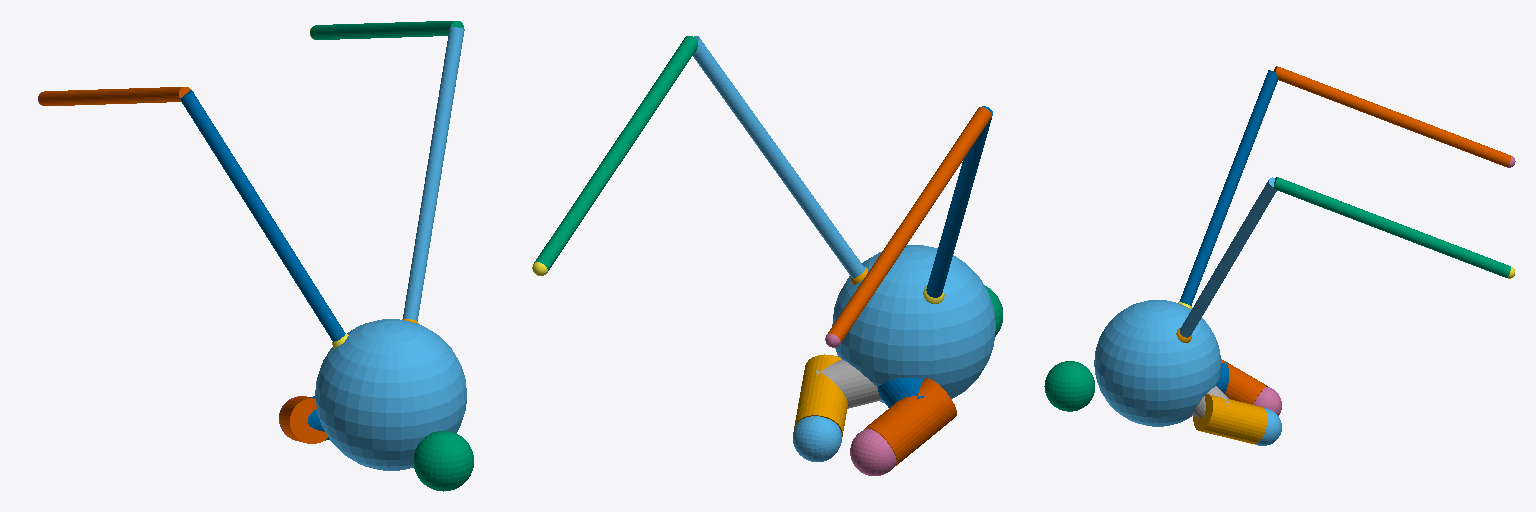
robot.urdf — ant:
<?xml version="1.0"?>
<!-- Link Definitions -->
<robot name="ant">
<link name="base_link">
</link>

<!-- ************************************************************** -->
<!-- Ant Head Definition -->
<link name="head">
    <visual>
      <geometry>
        <sphere radius="0.5"/>
      </geometry>
    </visual>
    <collision>
      <geometry>
        <sphere radius="0.5"/>
      </geometry>
    </collision>
</link>

<link name="neck">
    <visual>
      <geometry>
        <sphere radius="0.2"/>
      </geometry>
    </visual>
    <collision>
      <geometry>
        <sphere radius="0.2"/>
      </geometry>
    </collision>
</link>

 <joint name="neck_joint_1" type="revolute">
     <origin xyz="0.0 0.0 0.0" rpy="0.0 0.0 0.0"/>
     <parent link="base_link"/>
     <child link="neck"/>
     <axis xyz="1.0 0.0 0.0"/>
     <limit lower="-1.0" upper="1.0" effort="0.0" velocity="0.0"/>
 </joint>


  <!-- Joint Definitions Neck-->
  <joint name="neck_joint_2" type="revolute">
     <origin xyz="0.0 0.69 0.2" rpy="0.0 0.0 0.0"/>
     <parent link="neck"/>
     <child link="head"/>
     <axis xyz="0.0 1.0 0.0"/>
     <limit lower="-1.0" upper="1.0" effort="0.0" velocity="0.0"/>
 </joint>
<!-- ************************************************************** -->
 <!-- Ant Mandible Definition -->
<!-- Link Definitions Mandible-->
<link name="mandible_base_link">
    <visual>
      <geometry>
        <sphere radius="0.2"/>
      </geometry>
    </visual>
    <collision>
      <geometry>
        <sphere radius="0.2"/>
      </geometry>
    </collision>
</link>

<!-- Left Jaw -->
<link name="left_jaw_base">
    <visual>
    <origin xyz="0.0 0.0 0.0" rpy="0.0 0.0 0.0"/>
      <geometry>
        <cylinder radius="0.15" length="0.4"/>
      </geometry>

    </visual>
    <collision>
    <origin xyz="0.0 0.0 0.0" rpy="0.0 0.0 0.0"/>
      <geometry>
        <cylinder radius="0.15" length="0.4"/>
      </geometry>
    </collision>
  </link>

<link name="left_jaw">
    <visual>
    <origin xyz="0.0 0.0 0.0" rpy="0.0 0.0 0.0"/>
      <geometry>
        <cylinder radius="0.15" length="0.5"/>
      </geometry>

    </visual>
    <collision>
    <origin xyz="0.0 0.0 0.0" rpy="0.0 0.0 0.0"/>
      <geometry>
        <cylinder radius="0.15" length="0.5"/>
      </geometry>
    </collision>
  </link>

  <link name="left_jaw_tip">
    <visual>
    <origin xyz="0.0 0.0 0.0" rpy="0.0 0.0 0.0"/>
      <geometry>
        <sphere radius="0.15"/>
      </geometry>

    </visual>
            <collision>
    <origin xyz="0.0 0.0 0.0" rpy="0.0 0.0 0.0"/>
      <geometry>
        <sphere radius="0.15"/>
      </geometry>
    </collision>
  </link>

<!-- Right Jaw -->
  <link name="right_jaw_base">
    <visual>
    <origin xyz="0.0 0.0 0.0" rpy="0.0 0.0 0.0"/>
      <geometry>
        <cylinder radius="0.15" length="0.4"/>
      </geometry>

    </visual>
        <collision>
    <origin xyz="0.0 0.0 0.0" rpy="0.0 0.0 0.0"/>
      <geometry>
        <cylinder radius="0.15" length="0."/>
      </geometry>
    </collision>
  </link>

  <link name="right_jaw">
    <visual>
    <origin xyz="0.0 0.0 0.0" rpy="0.0 0.0 0.0"/>
      <geometry>
        <cylinder radius="0.15" length="0.5"/>
      </geometry>
    </visual>
    <collision>
    <origin xyz="0.0 0.0 0.0" rpy="0.0 0.0 0.0"/>
      <geometry>
        <cylinder radius="0.15" length="0.5"/>
      </geometry>
    </collision>
  </link>

  <link name="right_jaw_tip">
    <visual>
    <origin xyz="0.0 0.0 0.0" rpy="0.0 0.0 0.0"/>
      <geometry>
        <sphere radius="0.15"/>
      </geometry>

    </visual>
        <collision>
    <origin xyz="0.0 0.0 0.0" rpy="0.0 0.0 0.0"/>
      <geometry>
        <sphere radius="0.15"/>
      </geometry>
    </collision>
  </link>

  <!-- Joint Definitions Mandible -->
 <joint name="left_attachment" type="revolute">
     <origin xyz="0.2 0.2 0.0" rpy="-0.95 1.7 0.0"/>
     <parent link="mandible_base_link"/>
     <child link="left_jaw_base"/>
     <axis xyz="-1.0 0.0 0.0"/>
     <limit lower="-0.1" upper="0.5" effort="0.0" velocity="0.0"/>
 </joint>
  <joint name="right_attachment" type="revolute">
     <origin xyz="0.2 -0.2 0.0" rpy="0.95 1.7 0.0"/>
     <parent link="mandible_base_link"/>
     <child link="right_jaw_base"/>
     <axis xyz="1.0 0.0 0.0"/>
     <limit lower="-0.1" upper="0.5" effort="0.0" velocity="0.0"/>
 </joint>


    <joint name="fixed_left_1" type="fixed">
     <origin xyz="0.0 -0.1 0.2" rpy="1.3 0.0 0.0"/>

        <parent link="left_jaw_base"/>
        <child link="left_jaw"/>
    </joint>
        <joint name="fixed_left_2" type="fixed">
        <origin xyz="0.0 0.0 0.3" rpy="1.3 0.0 0.0"/>

        <parent link="left_jaw"/>
        <child link="left_jaw_tip"/>
    </joint>

        <joint name="fixed_right_1" type="fixed">
     <origin xyz="0.0 0.1 0.2" rpy=" -1.3 0.0 0.0"/>

        <parent link="right_jaw_base"/>
        <child link="right_jaw"/>
    </joint>
        <joint name="fixed_right_2" type="fixed">
        <origin xyz="0.0 0.0 0.3" rpy="-1.3 0.0 0.0"/>

        <parent link="right_jaw"/>
        <child link="right_jaw_tip"/>
    </joint>

<!-- Attach mandible to head -->
 <joint name="head_mandible" type="fixed">
     <origin xyz="0.0 0.2 -0.2" rpy="0.0 0.3 1.57"/>
     <axis xyz="0.0 0.0 0.0"/>
     <parent link="head"/>
     <child link="mandible_base_link"/>
 </joint>


<!-- *********************************************************** -->
<!-- Left Antenna -->

<!-- Link Definitions Left Antenna-->

<link name="left_antenna_base">
    <visual>
        <origin xyz="0.0 0.0 0.0" rpy="0.0 0.0 0.0"/>
        <geometry>
            <box size="0.0 0.0 0.0"/>
        </geometry>
    </visual>
</link>
<link name="l_pedicel">
    <visual>
    <origin xyz="0.0 0.0 0.0" rpy="0.0 0.0 0.0"/>
      <geometry>
        <sphere radius="0.07"/>
      </geometry>
      <material name="blue"/>
    </visual>
  </link>
  <link name="l_scape">
    <visual>
    <origin xyz="0.0 0.0 1" rpy="0.0 0.0 0.0"/>
      <geometry>
        <cylinder length="2" radius="0.05"/>
      </geometry>
    </visual>
    <collision>
    <origin xyz="0.0 0.0 1" rpy="0.0 0.0 0.0"/>
      <geometry>
        <cylinder length="2" radius="0.05"/>
      </geometry>
    </collision>
  </link>
  <link name="l_funiculus">
    <visual>
    <origin xyz="0.0 0.0 1" rpy="0.0 0.0 0"/>
      <geometry>
        <cylinder length="2" radius="0.05"/>
      </geometry>
    </visual>
    <collision>
    <origin xyz="0.0 0.0 1" rpy="0.0 0.0 0.0"/>
      <geometry>
        <cylinder length="2" radius="0.05"/>
      </geometry>
    </collision>
  </link>
  <link name="l_tip">

    <visual>
      <origin xyz="0.0 0.0 0.0" rpy="0.0 0.0 0.0"/>
      <geometry>
        <sphere radius="0.05"/>
      </geometry>
    </visual>
    <collision>
      <origin xyz="0.0 0.0 0.0" rpy="0.0 0.0 0.0"/>
      <geometry>
        <sphere radius="0.05"/>
      </geometry>
    </collision>
  </link>
 
<!-- Joint Definition Left Antenna -->
<joint name="l_PS1" type="revolute">
  <origin xyz="0.0 0.0 0.0" rpy="0.0 0.0 0.0"/>
  <parent link="left_antenna_base"/>
  <child link="l_pedicel"/>
  <axis xyz="-1.0 0.0 0.0"/>
  <limit lower="-0.5" upper="1.2" effort="0.0" velocity="0.0"/>
</joint>
<joint name="l_PS2" type="revolute">
    <origin xyz="0.0 0.0 0.0" rpy="0.0 0.0 0.0"/>
    <parent link="l_pedicel"/>
    <child link="l_scape"/>
    <axis xyz="0.0 1.0 0.0"/>
    <limit lower="-1.2" upper="1.2" effort="0.0" velocity="0.0"/>
</joint>

<joint name="l_SF1" type="revolute">
    <origin xyz="0.0 0.0 2" rpy="0.0 1.57 0"/>
    <parent link="l_scape"/>
    <child link="l_funiculus"/>
    <axis xyz="0.0 1.0 0.0"/>
    <limit lower="-1.57" upper="1.374" effort="0.0" velocity="0.0"/>
</joint> 

<joint name="l_end_joint" type="fixed">
  <origin xyz="0.0 0.0 2.0" rpy="0.0 0.0 0.0"/>
  <axis xyz="0.0 0.0 0.0"/>
  <parent link="l_funiculus"/>
  <child link="l_tip"/>  
</joint>

<!-- Join Left Antenna to Head -->
<joint name="l_antenna_base_jt" type="fixed">
  <origin xyz="-0.25 0.2 0.35" rpy="-0.4 0.4 1.57"/>
  <axis xyz="0.0 0.0 0.0"/>
  <parent link="head"/>
  <child link="left_antenna_base"/>  
</joint> 

<!-- ****************************************************************** -->

<!-- Right Antenna -->

<!-- Link Definitions Right Antenna-->

<link name="right_antenna_base">
    <visual>
        <origin xyz="0.0 0.0 0.0" rpy="0.0 0.0 0.0"/>
        <geometry>
            <box size="0.0 0.0 0.0"/>
        </geometry>
    </visual>
</link>
<link name="r_pedicel">
    <visual>
    <origin xyz="0.0 0.0 0.0" rpy="0.0 0.0 0.0"/>
      <geometry>
        <sphere radius="0.07"/>
      </geometry>
      <material name="blue"/>
    </visual>
  </link>
  <link name="r_scape">
    <visual>
    <origin xyz="0.0 0.0 1" rpy="0.0 0.0 0.0"/>
      <geometry>
        <cylinder length="2" radius="0.05"/>
      </geometry>
    </visual>
    <collision>
    <origin xyz="0.0 0.0 1" rpy="0.0 0.0 0.0"/>
      <geometry>
        <cylinder length="2" radius="0.05"/>
      </geometry>
    </collision>
  </link>
  <link name="r_funiculus">
    <visual>
    <origin xyz="0.0 0.0 1" rpy="0.0 0.0 0"/>
      <geometry>
        <cylinder length="2" radius="0.05"/>
      </geometry>
    </visual>
    <collision>
    <origin xyz="0.0 0.0 1" rpy="0.0 0.0 0.0"/>
      <geometry>
        <cylinder length="2" radius="0.05"/>
      </geometry>
    </collision>
  </link>
  <link name="r_tip">

    <visual>
      <origin xyz="0.0 0.0 0.0" rpy="0.0 0.0 0.0"/>
      <geometry>
        <sphere radius="0.05"/>
      </geometry>
    </visual>
    <collision>
      <origin xyz="0.0 0.0 0.0" rpy="0.0 0.0 0.0"/>
      <geometry>
        <sphere radius="0.05"/>
      </geometry>
    </collision>
  </link>
 
<!-- Joint Definition Right Antenna -->
<joint name="r_PS1" type="revolute">
  <origin xyz="0.0 0.0 0.0" rpy="0.0 0.0 0.0"/>
  <parent link="right_antenna_base"/>
  <child link="r_pedicel"/>
  <axis xyz="1.0 0.0 0.0"/>
  <limit lower="-0.5" upper="1.2" effort="0.0" velocity="0.0"/>
</joint>
<joint name="r_PS2" type="revolute">
    <origin xyz="0.0 0.0 0.0" rpy="0.0 0.0 0.0"/>
    <parent link="r_pedicel"/>
    <child link="r_scape"/>
    <axis xyz="0.0 1.0 0.0"/>
    <limit lower="-1.2" upper="1.2" effort="0.0" velocity="0.0"/>
</joint>

<joint name="r_SF1" type="revolute">
    <origin xyz="0.0 0.0 2" rpy="0.0 1.57 0"/>
    <parent link="r_scape"/>
    <child link="r_funiculus"/>
    <axis xyz="0.0 1.0 0.0"/>
    <limit lower="-1.57" upper="1.374" effort="0.0" velocity="0.0"/>
</joint> 

<joint name="r_end_joint" type="fixed">
  <origin xyz="0.0 0.0 2.0" rpy="0.0 0.0 0.0"/>
  <axis xyz="0.0 0.0 0.0"/>
  <parent link="r_funiculus"/>
  <child link="r_tip"/>  
</joint>

<!-- Join Right Antenna to Head -->
<joint name="r_antenna_base_jt" type="fixed">
  <origin xyz="0.25 0.2 0.35" rpy="0.4 0.4 1.57"/>
  <axis xyz="0.0 0.0 0.0"/>
  <parent link="head"/>
  <child link="right_antenna_base"/>  
</joint> 


</robot>

--- What the picture shows (computed from the rendered views, not written in the file) ---
Views: 3 orthographic renders of the robot side by side, from view 1: azimuth 30°, elevation 25°; view 2: azimuth 150°, elevation 25°; view 3: azimuth 270°, elevation 25°.
Robot: ant — 20 links, 19 joints (10 revolute, 9 fixed); root link base_link; default pose: every joint at zero.
Links seen in each view (by area): view 1: head, r_scape, l_scape, neck, l_funiculus, r_funiculus, left_jaw; view 2: head, r_scape, l_funiculus, r_funiculus, left_jaw, l_scape, right_jaw, right_jaw_tip, left_jaw_tip, right_jaw_base, left_jaw_base; view 3: head, r_funiculus, l_funiculus, l_scape, right_jaw, r_scape, neck, left_jaw.
Link boxes in pixels (box(x1,y1,x2,y2)): head: box(315, 319, 466, 470); r_scape: box(403, 27, 464, 320); l_scape: box(180, 90, 345, 341); neck: box(413, 431, 473, 491); l_funiculus: box(39, 87, 190, 105); r_funiculus: box(310, 21, 463, 39); left_jaw: box(280, 396, 327, 443); head: box(832, 245, 995, 402); r_scape: box(693, 36, 864, 277); l_funiculus: box(828, 107, 991, 341); r_funiculus: box(534, 36, 697, 270); left_jaw: box(864, 378, 956, 465); l_scape: box(926, 106, 992, 297); right_jaw: box(794, 354, 847, 436); right_jaw_tip: box(793, 416, 841, 461); left_jaw_tip: box(850, 428, 896, 475); right_jaw_base: box(816, 360, 881, 408); left_jaw_base: box(878, 378, 924, 407); head: box(1094, 300, 1220, 426); r_funiculus: box(1274, 177, 1510, 277); l_funiculus: box(1274, 66, 1511, 166); l_scape: box(1180, 70, 1277, 305); right_jaw: box(1193, 394, 1266, 443); r_scape: box(1180, 177, 1276, 337); neck: box(1044, 361, 1094, 411); left_jaw: box(1221, 359, 1267, 404).
Bounding box of the posed robot: 2.16 × 3.7 × 2.7 m (x, y, z).
Geometry: primitives only (box / cylinder / sphere), no mesh files.